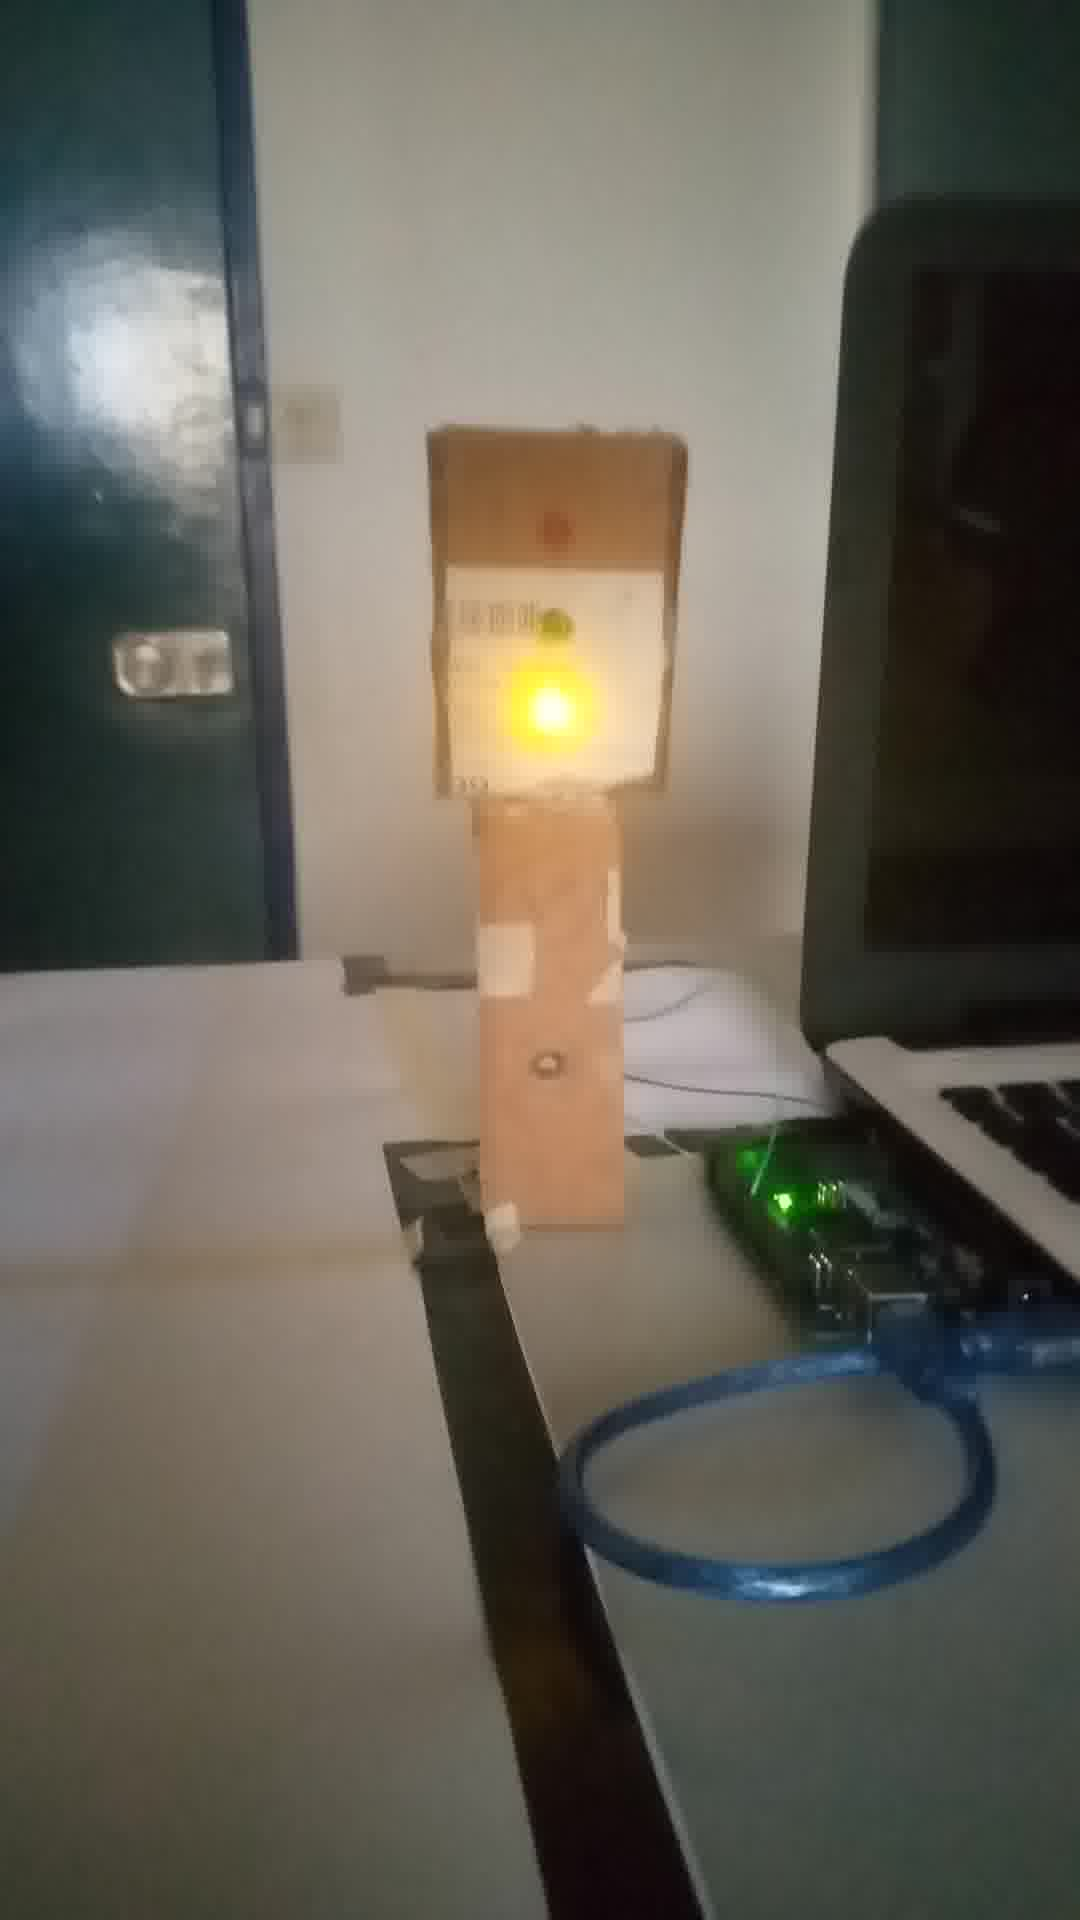green: (418, 443, 673, 786)
